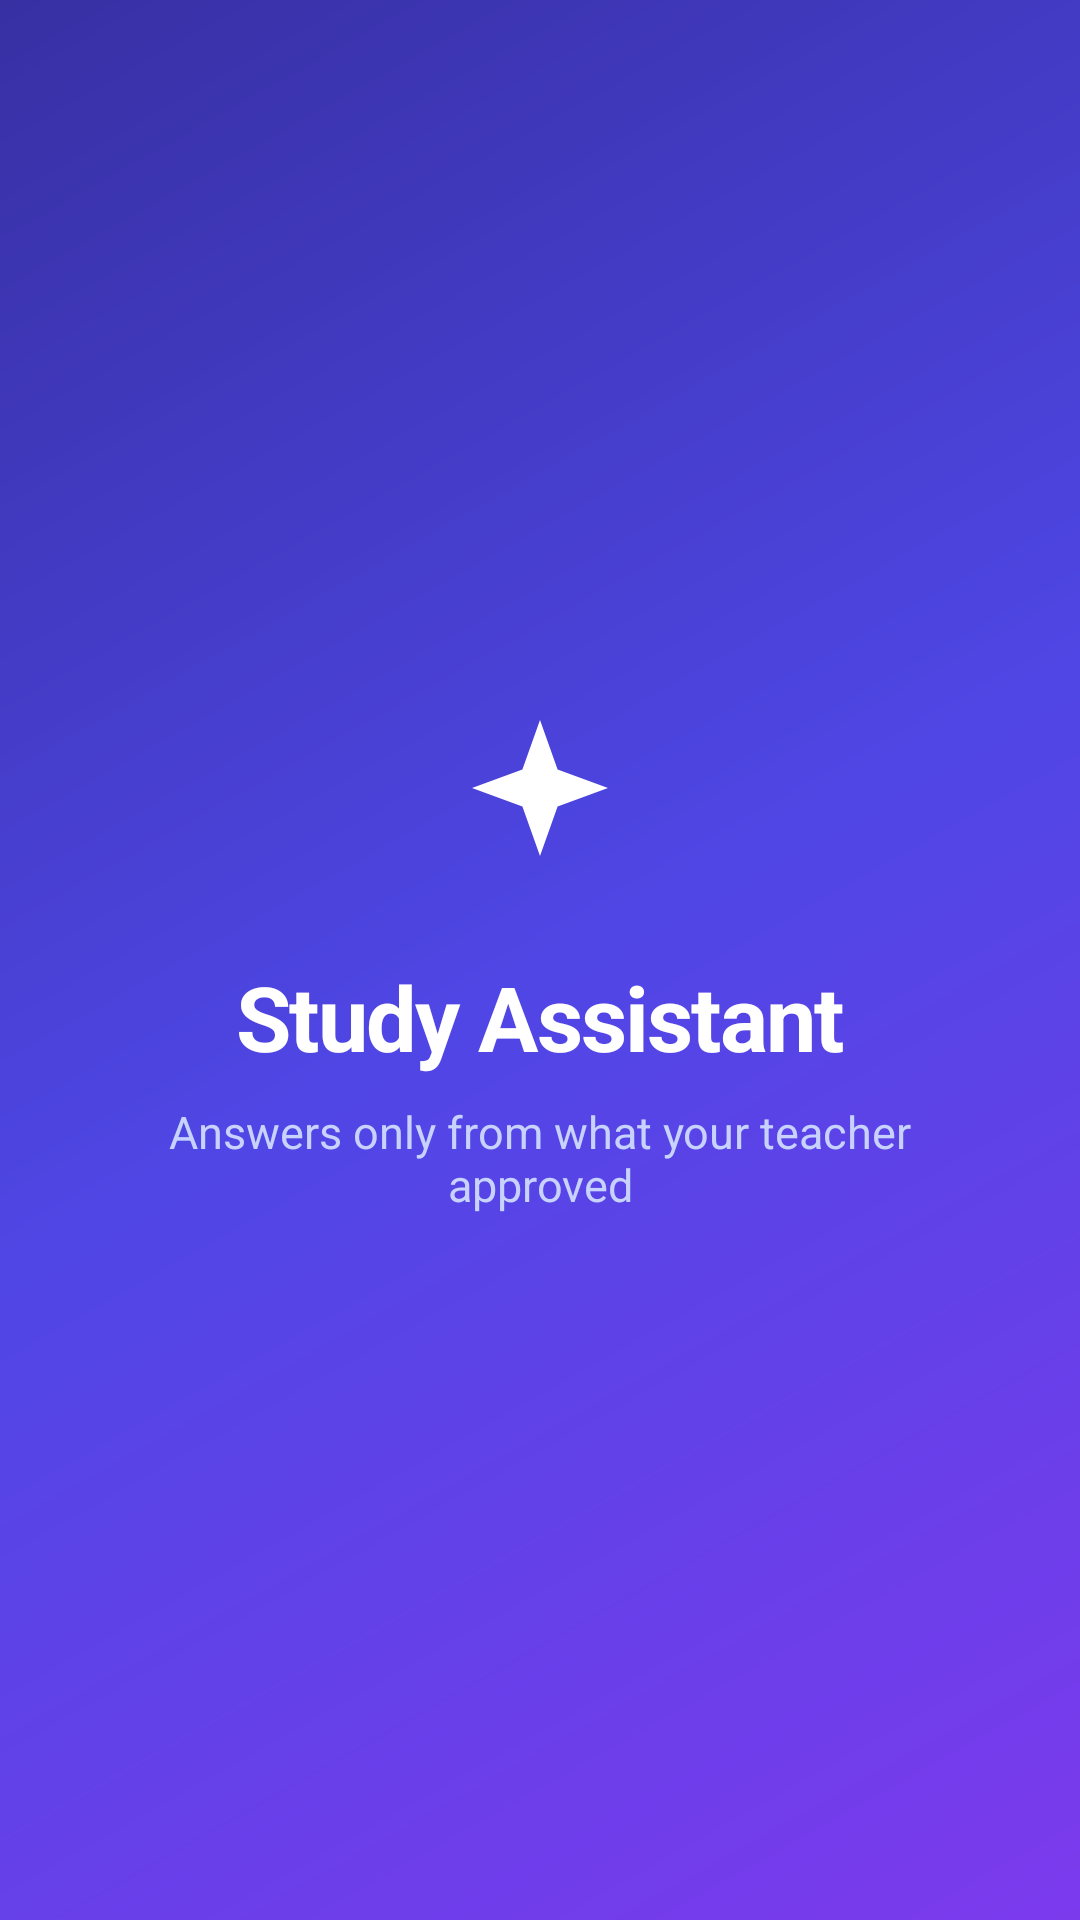

Screen size 1080 x 1920. Icon name, then its box in pixels as box=[x1, y1, x2, y2]:
sparkle: box=[472, 720, 608, 856]
